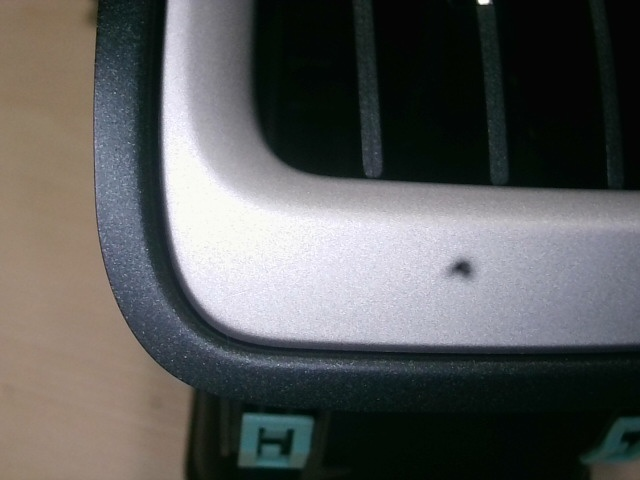NG: (221, 283, 255, 309)
